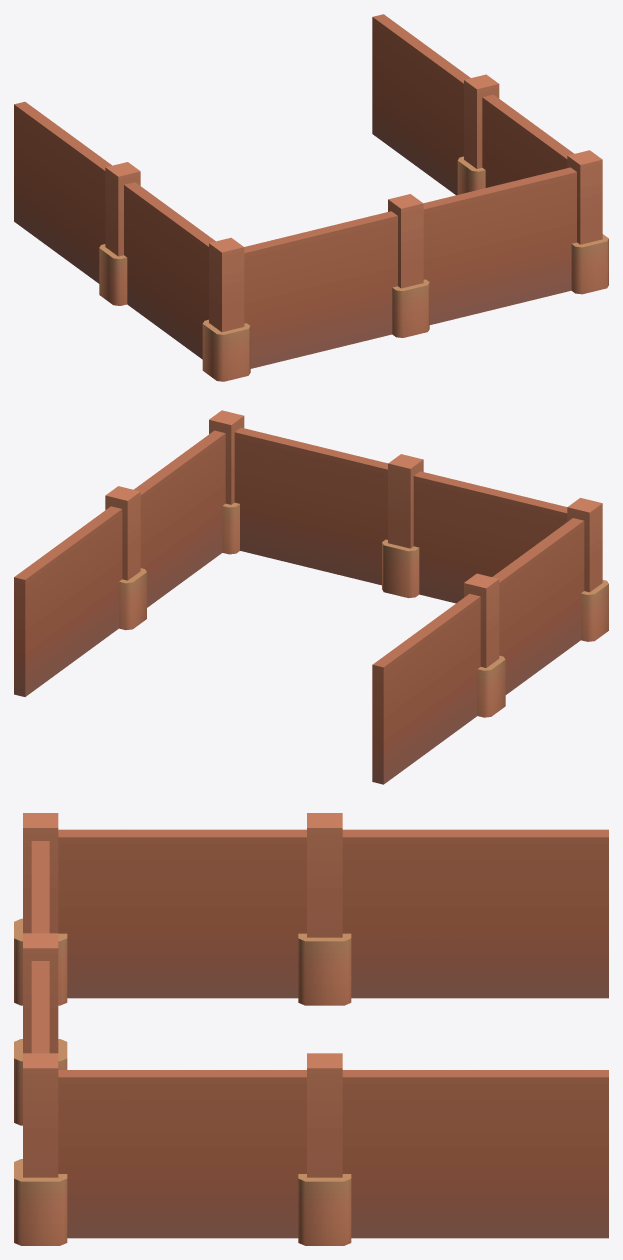
The model's file is sub_fence_2x2.glb.
The picture shows the model from 3 angles, top to bottom: view 1: azimuth 30°, elevation 25°; view 2: azimuth 150°, elevation 25°; view 3: azimuth 270°, elevation 25°; orthographic projection. The views are drawn at different scales.
Parts seen in each view (by area): view 1: fence-2x2; view 2: fence-2x2; view 3: fence-2x2.
Part boxes in pixels (<box>): fence-2x2: <box>14,14,608,381</box>; fence-2x2: <box>14,410,608,784</box>; fence-2x2: <box>14,813,608,1245</box>.
Size of the model in its own units: 0.875 by 0.27 by 0.8375.
Materials: 1 (1 with a texture image).
